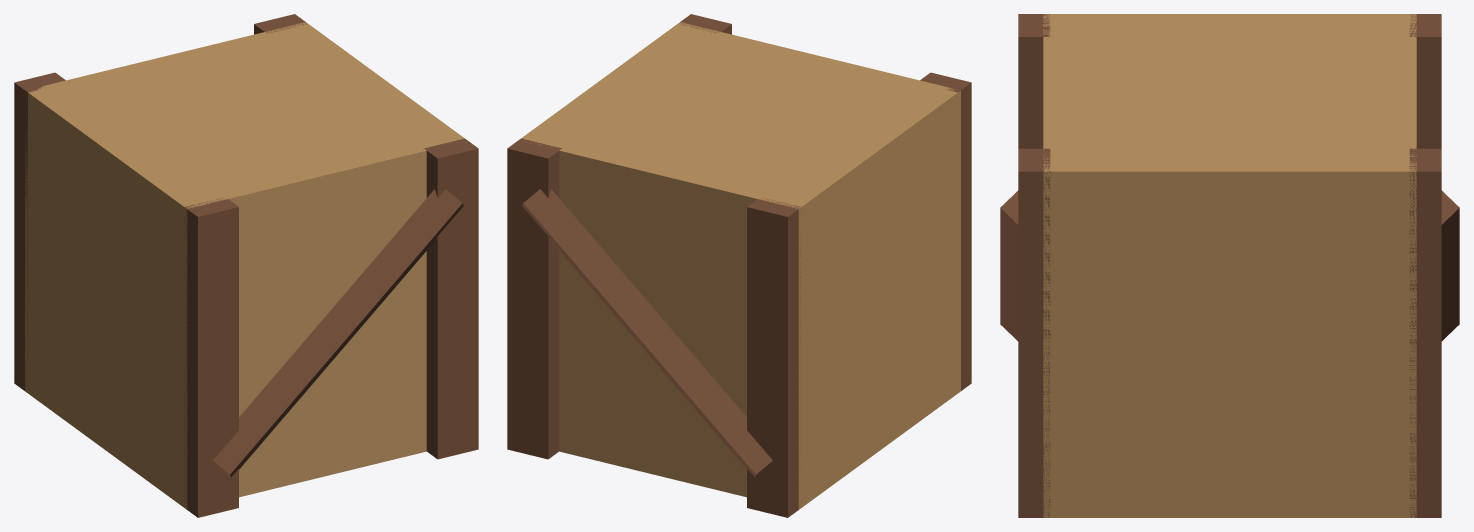
Rendered from wood_crate.glb.
The picture shows the model from 3 angles, left to right: view 1: azimuth 30°, elevation 25°; view 2: azimuth 150°, elevation 25°; view 3: azimuth 270°, elevation 25°; orthographic projection. The views are drawn at different scales.
Parts seen in each view (by area): view 1: wood_crate; view 2: wood_crate; view 3: wood_crate.
Part boxes in pixels (left/top/right/bottom): wood_crate: left=14, top=14, right=478, bottom=517; wood_crate: left=507, top=14, right=971, bottom=517; wood_crate: left=1000, top=14, right=1459, bottom=517.
Bounding box in the file's own units: 0.82 × 0.84 × 1.01.
